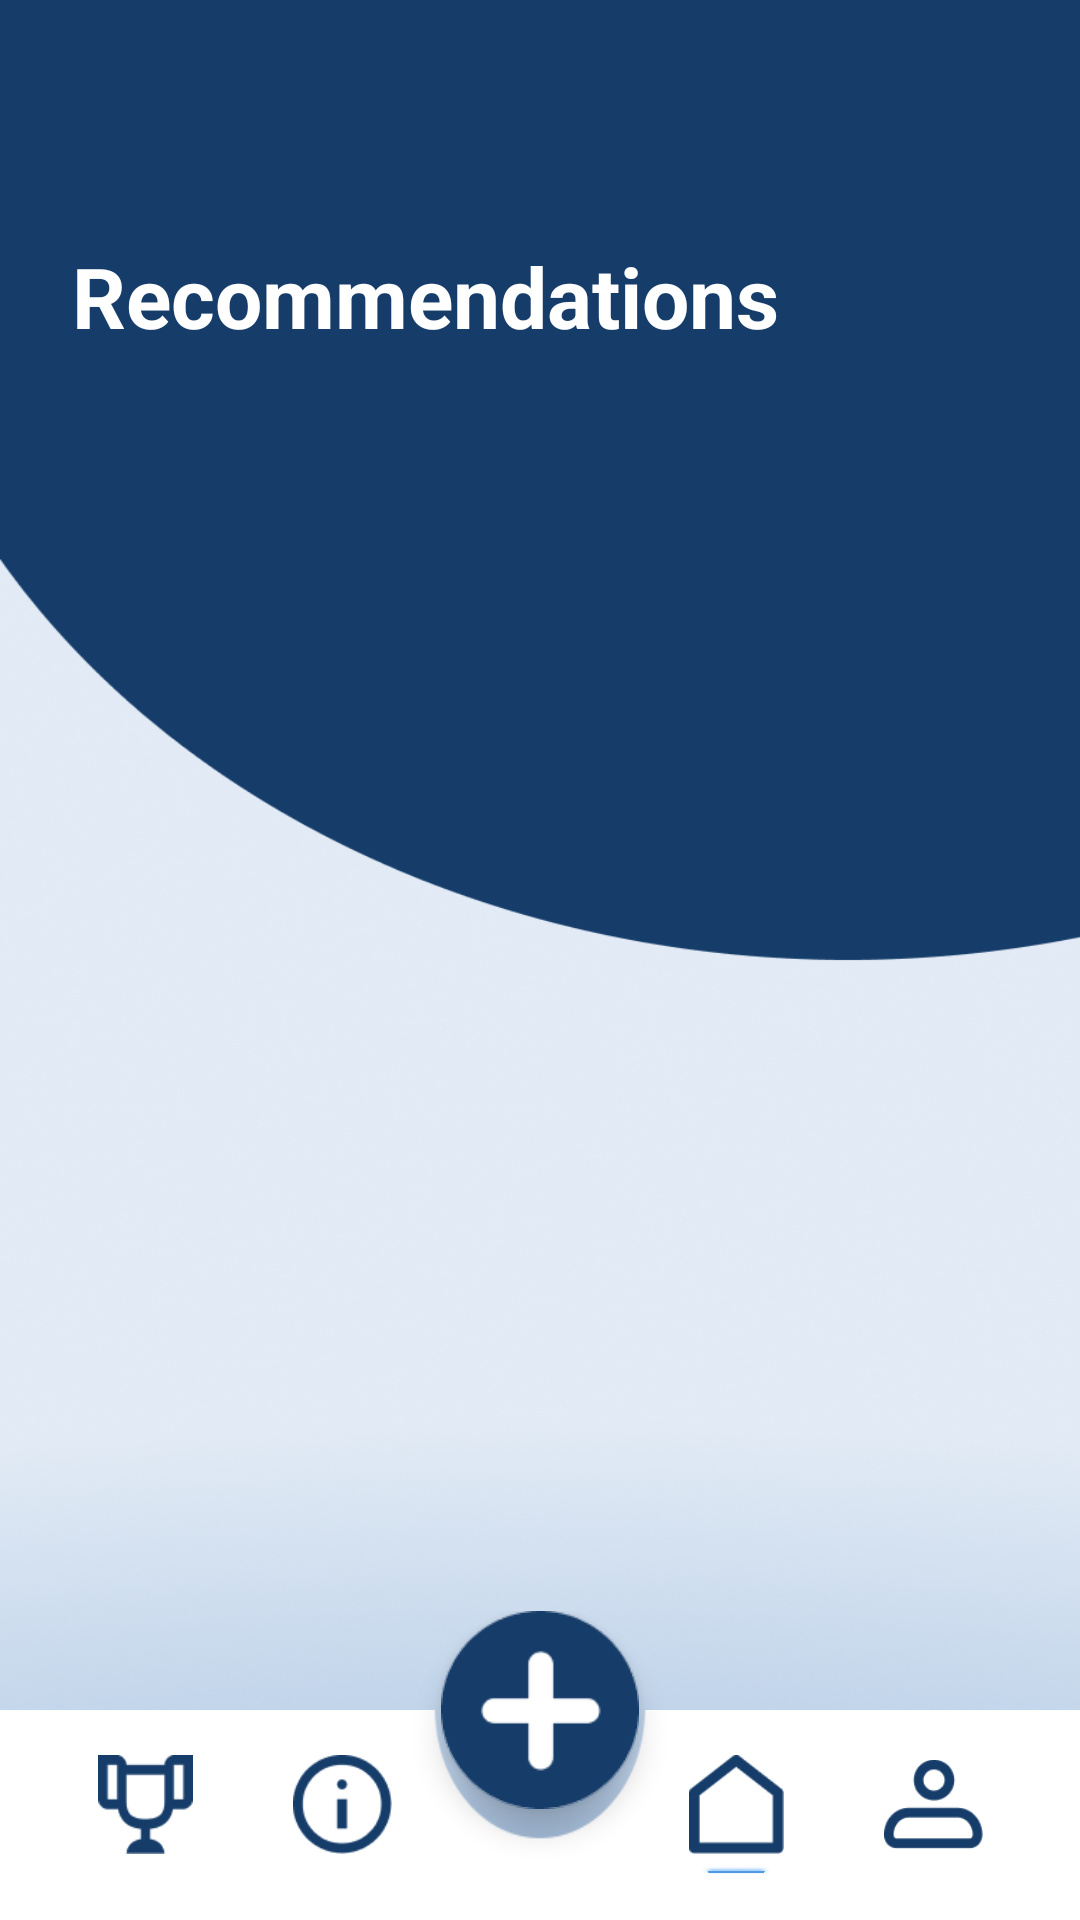

Screen size 1080 x 1920. Icon name, then its center in pixels as point (x, y):
Achievements: point (145, 1804)
Add Device: point (540, 1710)
Home: point (736, 1804)
Profile: point (933, 1804)
